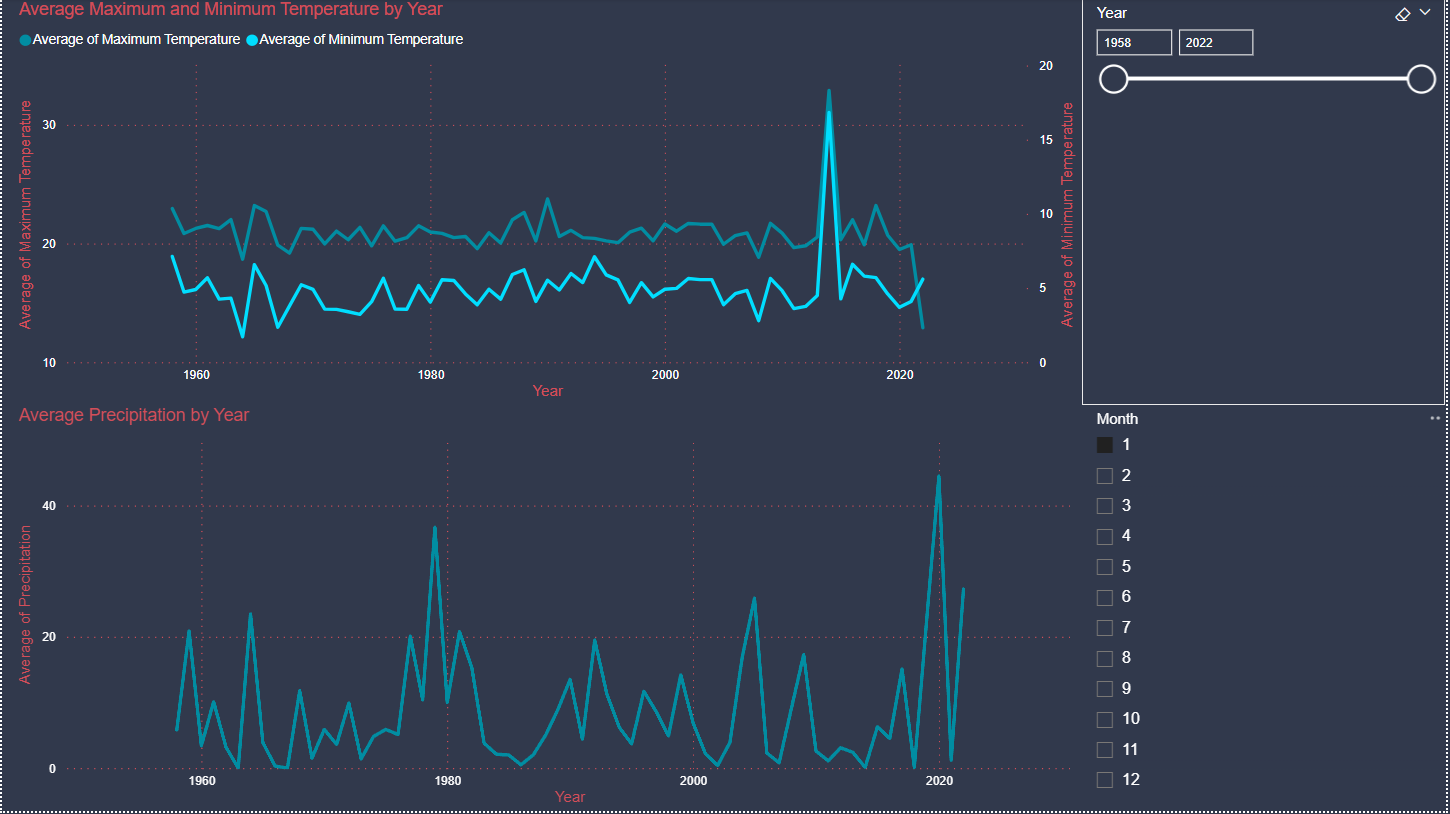

Layout of this report page (visuals, bound fields, positions):
{"tool":"powerbi","page":{"name":"Dera Ghazi Khan - 1","canvas":[1280,720],"ordinal":2},"visuals":[{"type":"lineChart","title":"Average Maximum and Minimum Temperature by Year","fields":{"Category":["Dera Ghazi Khan CSV.Year"],"Y":["Avg(Dera Ghazi Khan CSV.Maximum Temperature)"],"Y2":["Avg(Dera Ghazi Khan CSV.Minimum Temperature)"]},"box":[9.7,0,947.6,360.4],"z":0},{"type":"slicer","fields":{"Values":["Dera Ghazi Khan CSV.Year"]},"box":[957.3,0,322.4,360.4],"z":1000},{"type":"slicer","fields":{"Values":["Dera Ghazi Khan CSV.Month"]},"box":[957.3,360.4,322.4,359.6],"z":2000},{"type":"lineChart","title":"Average Precipitation by Year","fields":{"Category":["Dera Ghazi Khan CSV.Year"],"Y":["Avg(Dera Ghazi Khan CSV.Precipitation)"]},"box":[9.7,360.4,947.6,359.6],"z":3000}]}

Visuals, with their boxes on the page's 1280x720 design canvas (x1, y1, x2, y2). These are canvas units, not pixel positions in the 1450x814 screenshot, which may show the page scaled, cropped or inside an application window:
"Average Maximum and Minimum Temperature by Year" lineChart: <box>10,0,957,360</box>
slicer - Dera Ghazi Khan CSV.Year: <box>957,0,1280,360</box>
slicer - Dera Ghazi Khan CSV.Month: <box>957,360,1280,720</box>
"Average Precipitation by Year" lineChart: <box>10,360,957,720</box>
